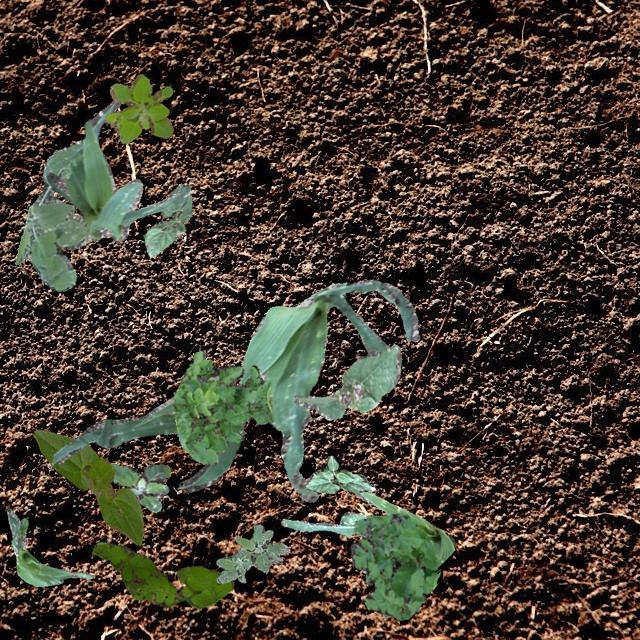crop: (238, 278, 418, 502), (46, 100, 190, 240), (50, 395, 238, 491), (280, 490, 453, 566), (32, 428, 142, 544), (292, 344, 400, 418), (5, 508, 91, 586), (142, 182, 190, 255), (304, 454, 374, 492)
weed: (14, 138, 90, 290), (172, 349, 272, 464), (349, 512, 438, 618), (91, 542, 232, 608), (104, 72, 172, 142), (214, 522, 288, 582), (110, 462, 170, 512)
